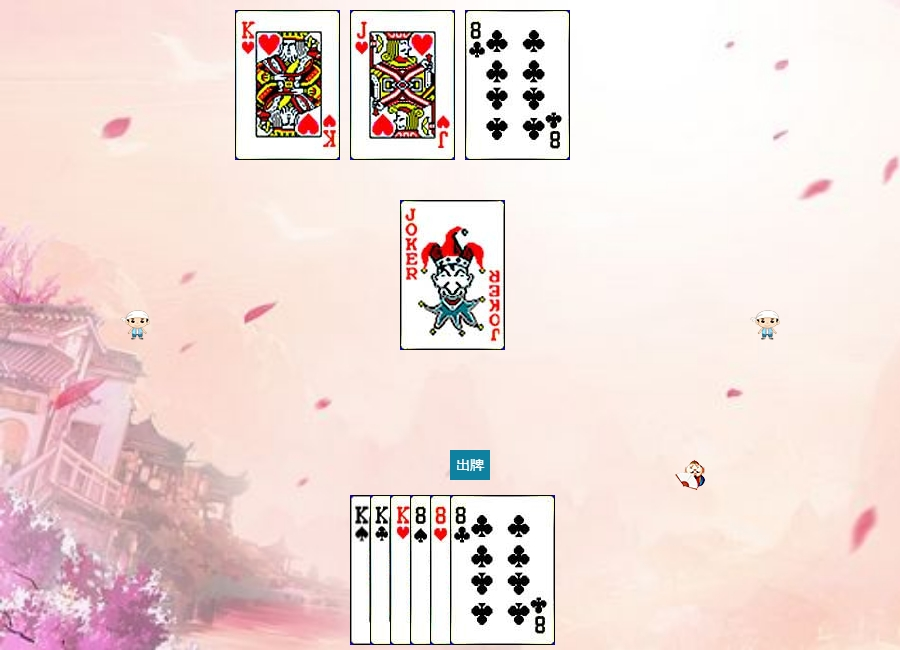11~3: (350, 10, 455, 160)
13~2: (370, 495, 475, 645)
13~3: (235, 10, 340, 160), (390, 495, 495, 645)
13~4: (350, 495, 455, 645)
18~4: (400, 200, 505, 350)
8~2: (465, 10, 570, 160), (450, 495, 555, 645)
8~3: (430, 495, 535, 645)
8~4: (410, 495, 515, 645)
